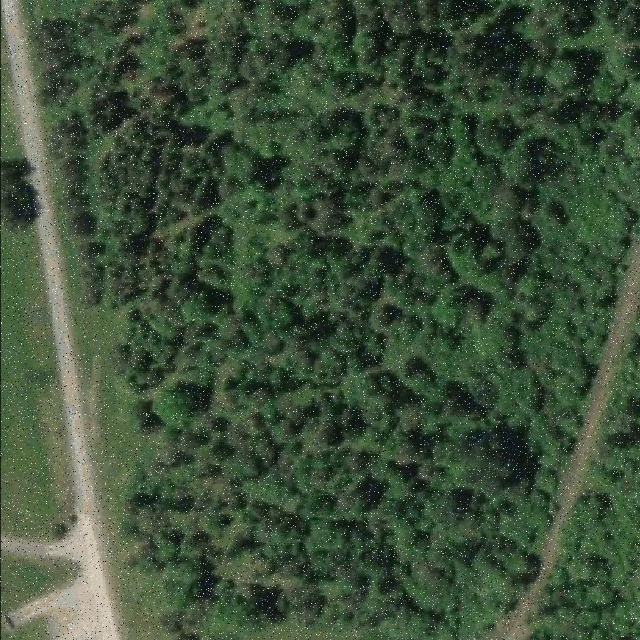vegetation: (33, 0, 639, 640), (515, 304, 640, 639)
